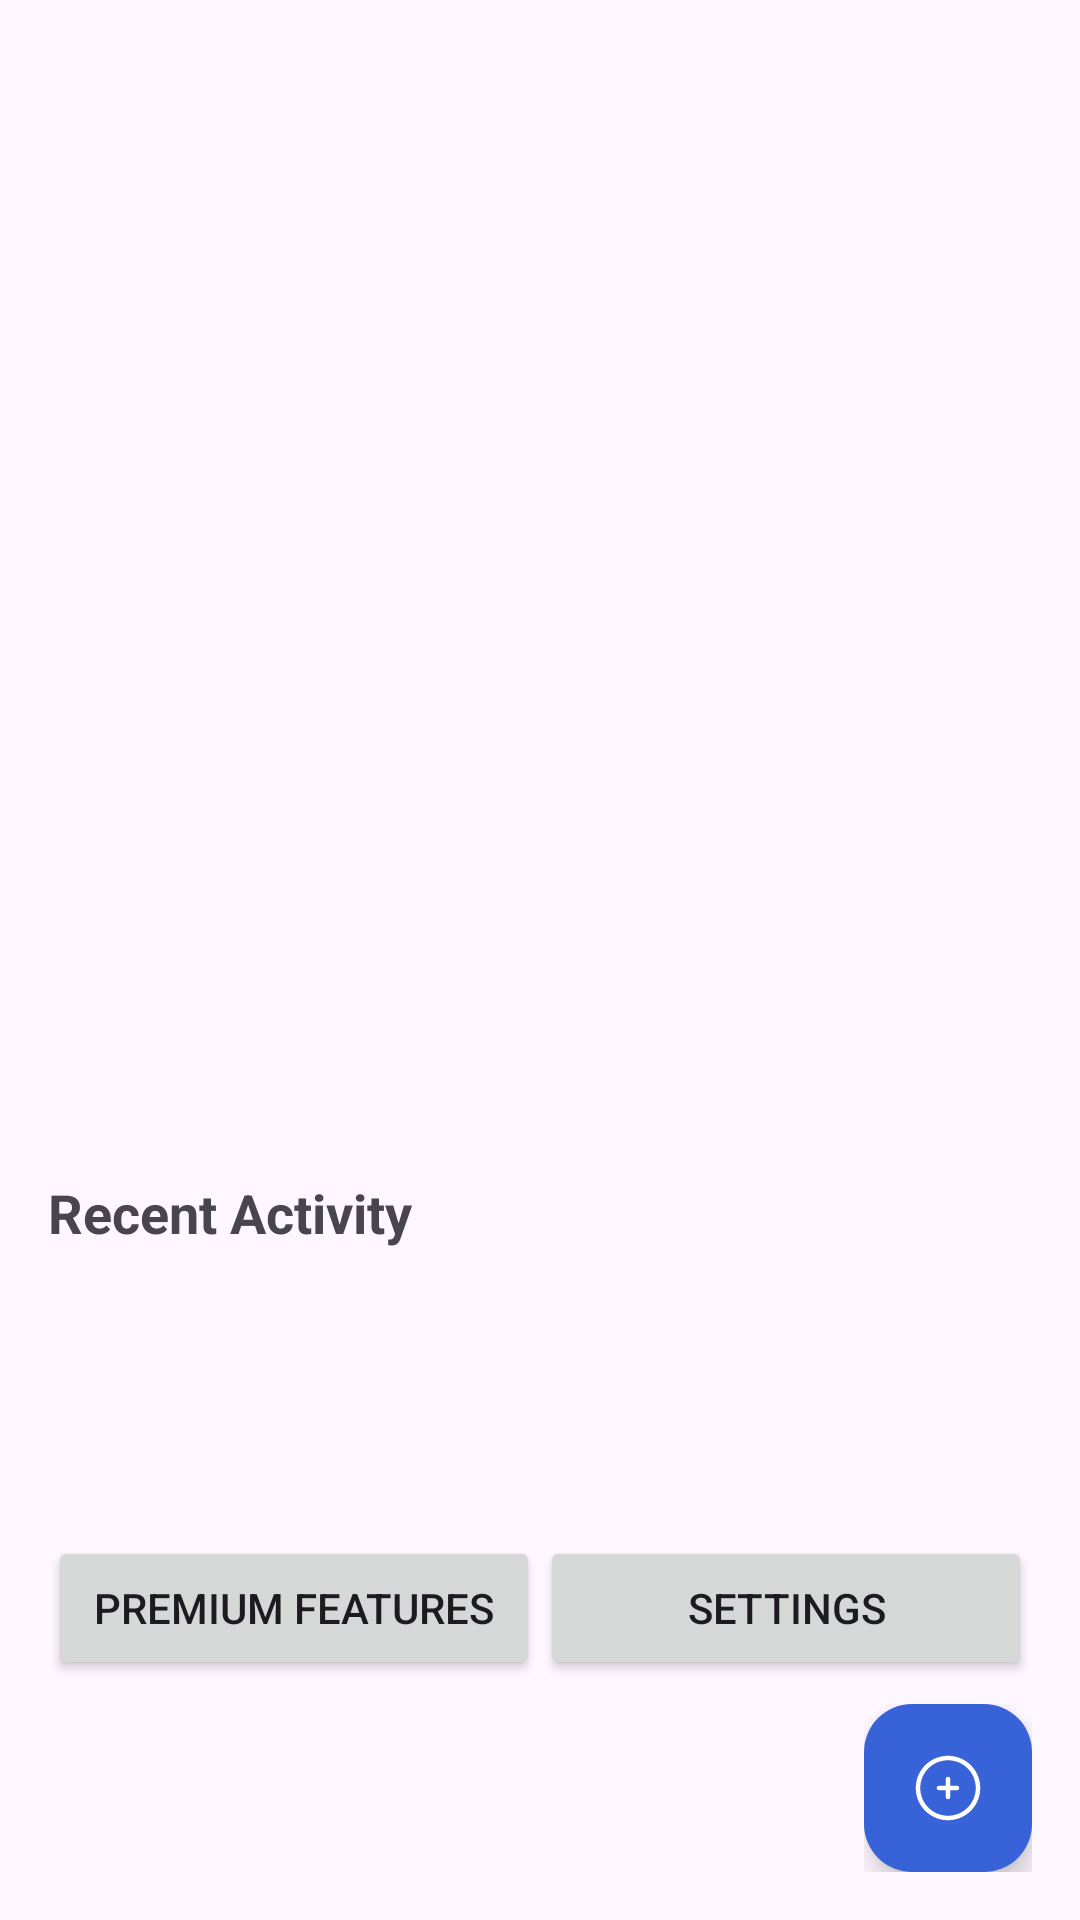

Icons on this 1080px×1920px Android screen, each with the point to tap as point (x, y):
add circle: point (948, 1788)
